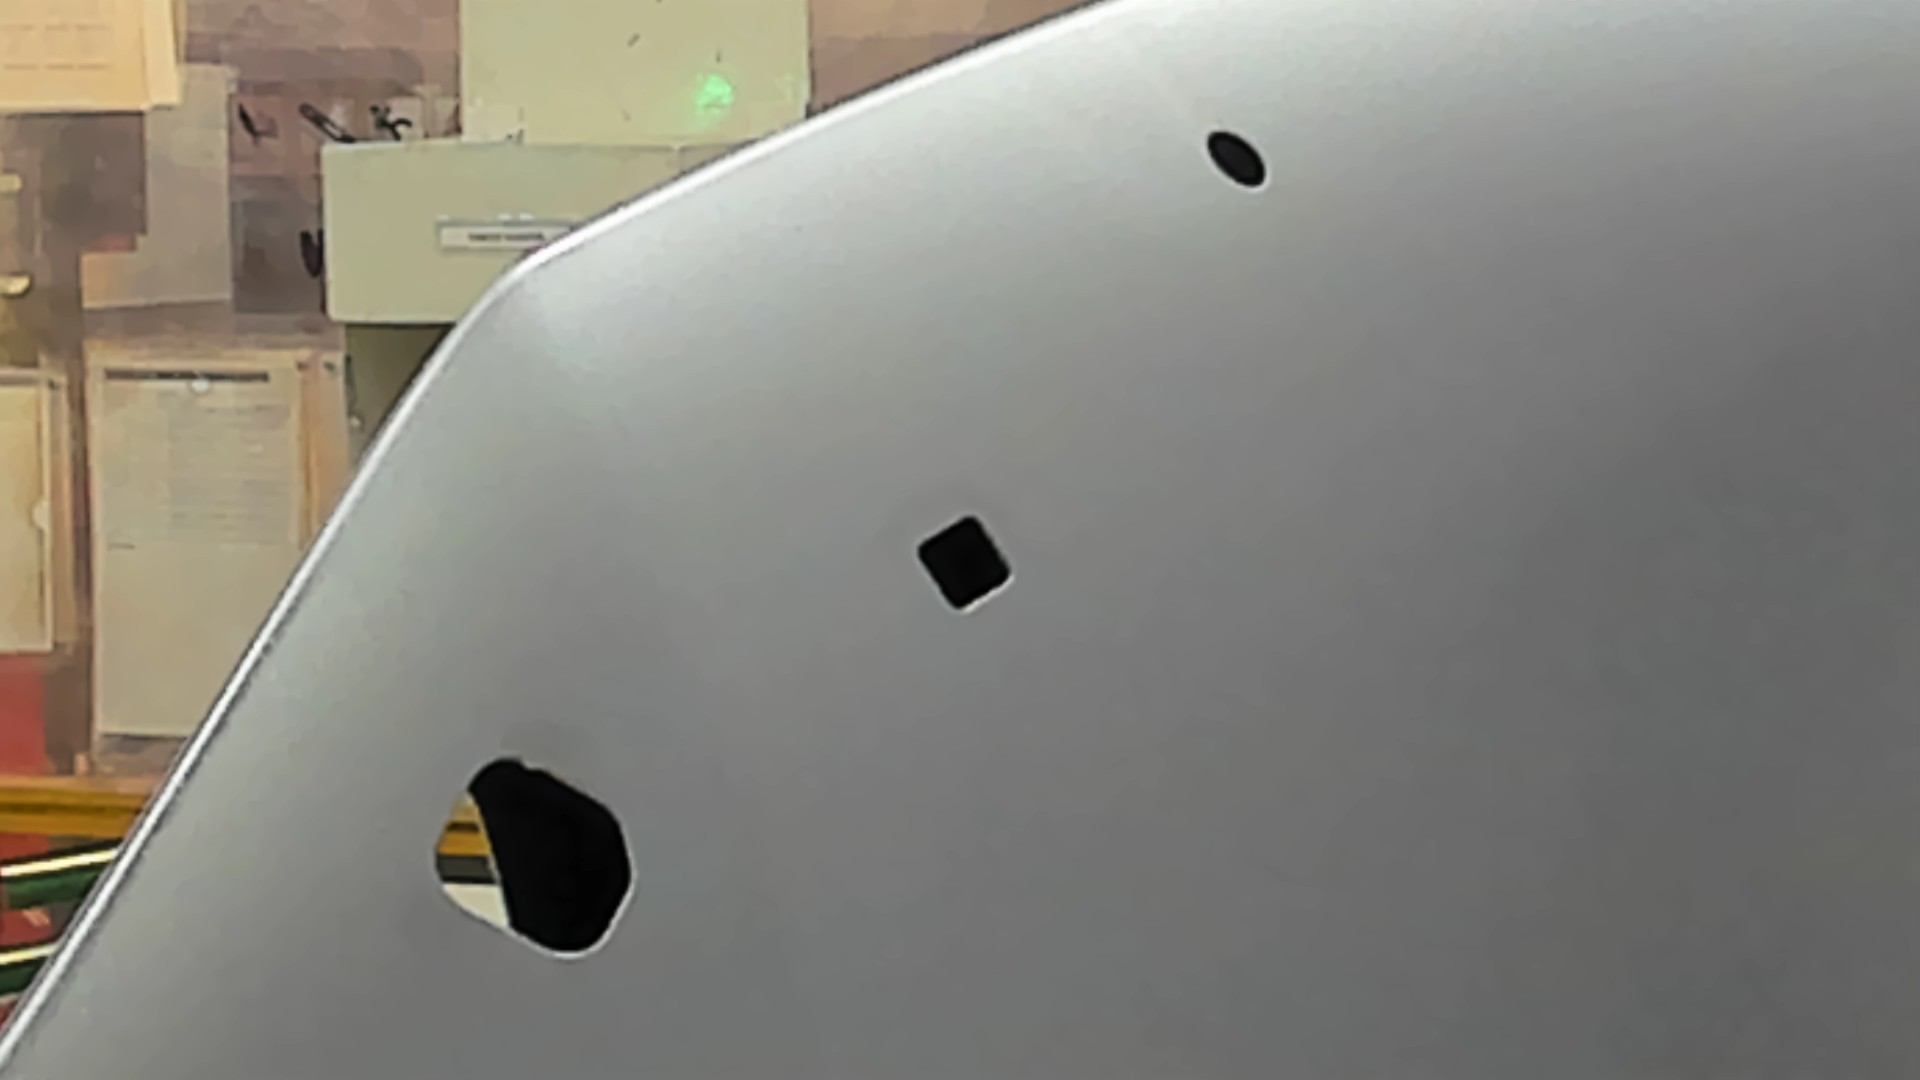chico: (1192, 123, 1292, 203)
grande: (404, 745, 669, 967)
mediano: (887, 502, 1033, 622)
